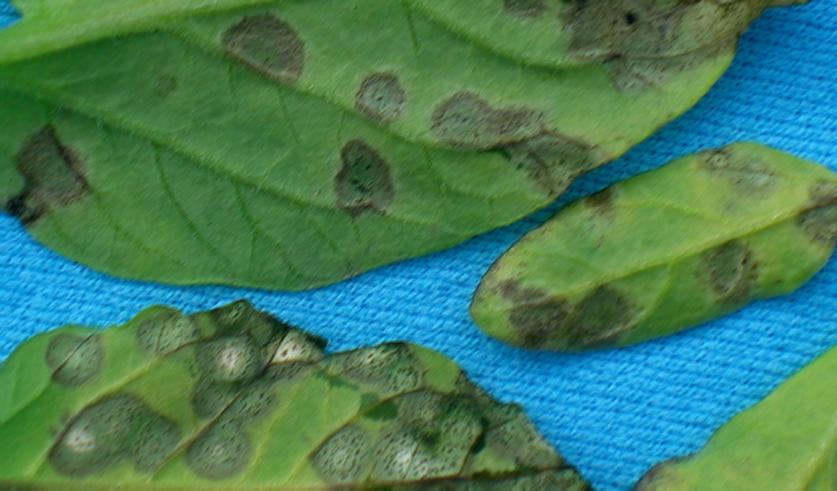Tomato Septoria leaf spot: (0, 0, 837, 298), (0, 299, 629, 491), (455, 137, 837, 360), (608, 301, 837, 491)
